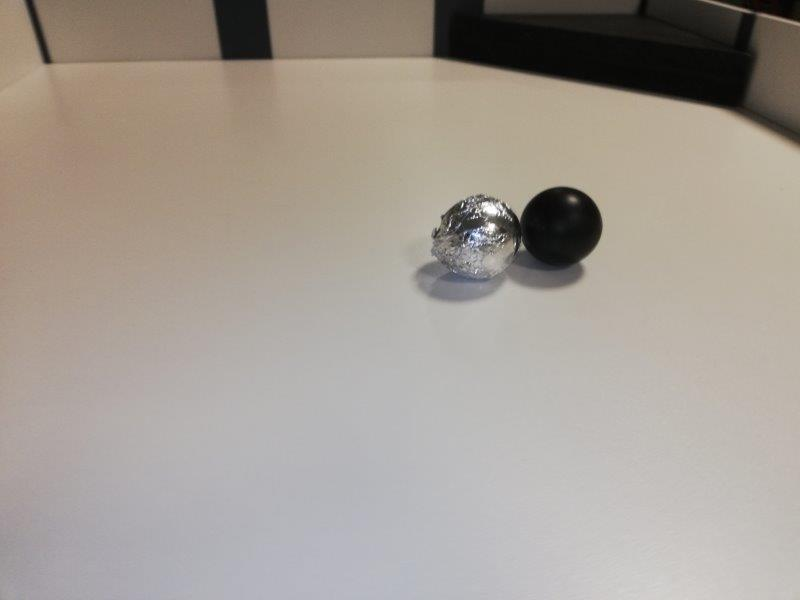bianca: (433, 197, 519, 279)
nera: (524, 185, 603, 270)
